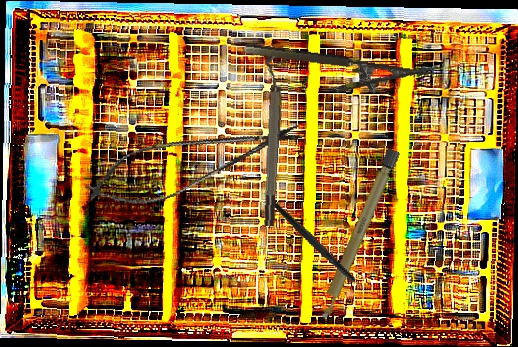Chopper: (265, 171, 379, 320)
Fixation Ring: (254, 55, 289, 227)
Micro Scissor: (78, 102, 310, 221)
Needle Holder: (239, 41, 437, 106)
Scalpel Handle: (315, 147, 401, 323)
